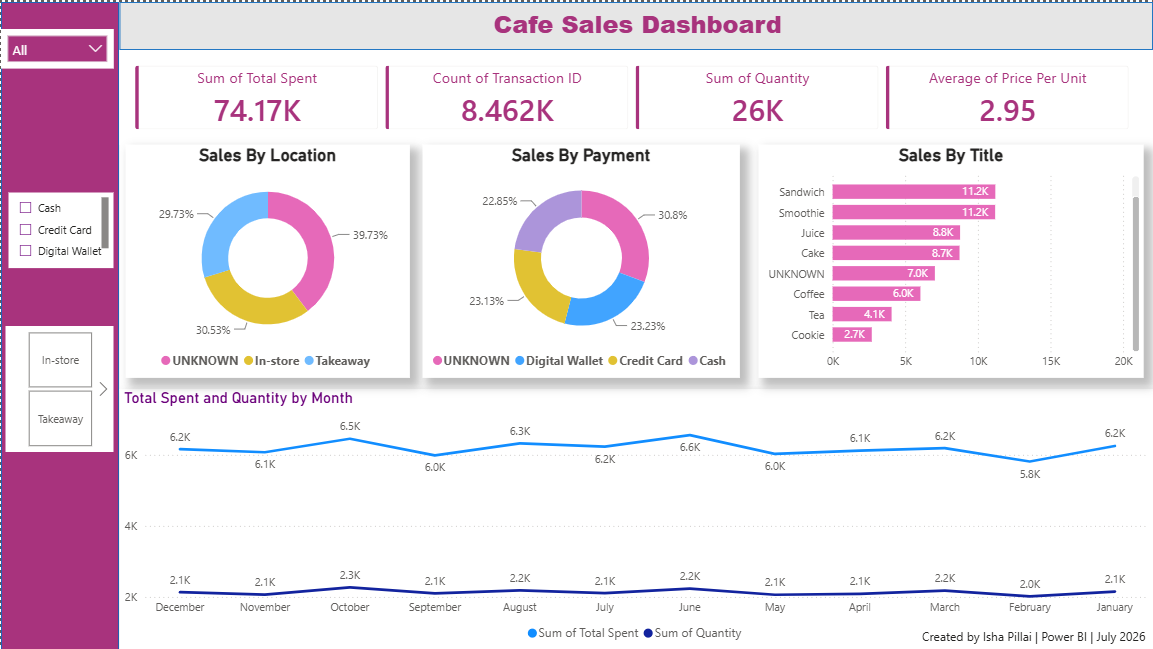

Layout of this report page (visuals, bound fields, positions):
{"tool":"powerbi","page":{"name":"Page 1","canvas":[1280,720],"ordinal":0},"visuals":[{"type":"shape","box":[0,0,131.2,720.6],"z":0},{"type":"shape","box":[131.7,0,1148.3,53.3],"z":1000},{"type":"cardVisual","fields":{"Data":["Sum(Cafe Sales Data.Total Spent)","Count(Cafe Sales Data.Transaction ID)","Sum(Cafe Sales Data.Quantity)","Avg(Cafe Sales Data.Price Per Unit)"]},"box":[131.7,53.3,1138.3,105],"z":2000},{"type":"lineChart","title":"Total Spent and Quantity by Month","fields":{"Category":["Cafe Sales Data.Month Name"],"Y":["Sum(Cafe Sales Data.Total Spent)","Sum(Cafe Sales Data.Quantity)"]},"box":[131.7,430,1148.3,290],"z":3000},{"type":"donutChart","title":"Sales By Location","fields":{"Category":["Cafe Sales Data.Location"],"Y":["Sum(Cafe Sales Data.Total Spent)"]},"box":[137.8,158.8,315.7,259.1],"z":4000},{"type":"donutChart","title":"Sales By Payment","fields":{"Category":["Cafe Sales Data.Payment Method"],"Y":["Sum(Cafe Sales Data.Total Spent)"]},"box":[469,158.1,352.5,259],"z":5000},{"type":"barChart","title":"Sales By Title","fields":{"Y":["Sum(Cafe Sales Data.Total Spent)"],"Category":["Cafe Sales Data.Item"]},"box":[841.1,158.1,427.9,259],"z":6000},{"type":"slicer","fields":{"Values":["Cafe Sales Data.Payment Method"]},"box":[8.1,212.1,116.6,84.2],"z":7000},{"type":"slicer","fields":{"Values":["Cafe Sales Data.Location"]},"box":[5,360,120,140],"z":8000},{"type":"slicer","fields":{"Values":["Cafe Sales Data.Transaction ID"]},"box":[0,30.8,125,44],"z":9000},{"type":"textbox","box":[153.3,0,1108.3,53.3],"z":10000},{"type":"textbox","box":[1018.6,690,261.4,30],"z":10001}]}

Visuals, with their boxes in screenshot pixels (x1, y1, x2, y2):
shape: detection(0, 0, 117, 640)
shape: detection(117, 0, 1137, 47)
cardVisual - Sum(Cafe Sales Data.Total Spent) x Count(Cafe Sales Data.Transaction ID): detection(117, 47, 1128, 141)
"Total Spent and Quantity by Month" lineChart: detection(117, 382, 1137, 640)
"Sales By Location" donutChart: detection(122, 141, 403, 371)
"Sales By Payment" donutChart: detection(417, 140, 730, 371)
"Sales By Title" barChart: detection(747, 140, 1127, 371)
slicer - Cafe Sales Data.Payment Method: detection(7, 188, 111, 263)
slicer - Cafe Sales Data.Location: detection(4, 320, 111, 444)
slicer - Cafe Sales Data.Transaction ID: detection(0, 27, 111, 66)
textbox: detection(136, 0, 1121, 47)
textbox: detection(905, 613, 1137, 640)
